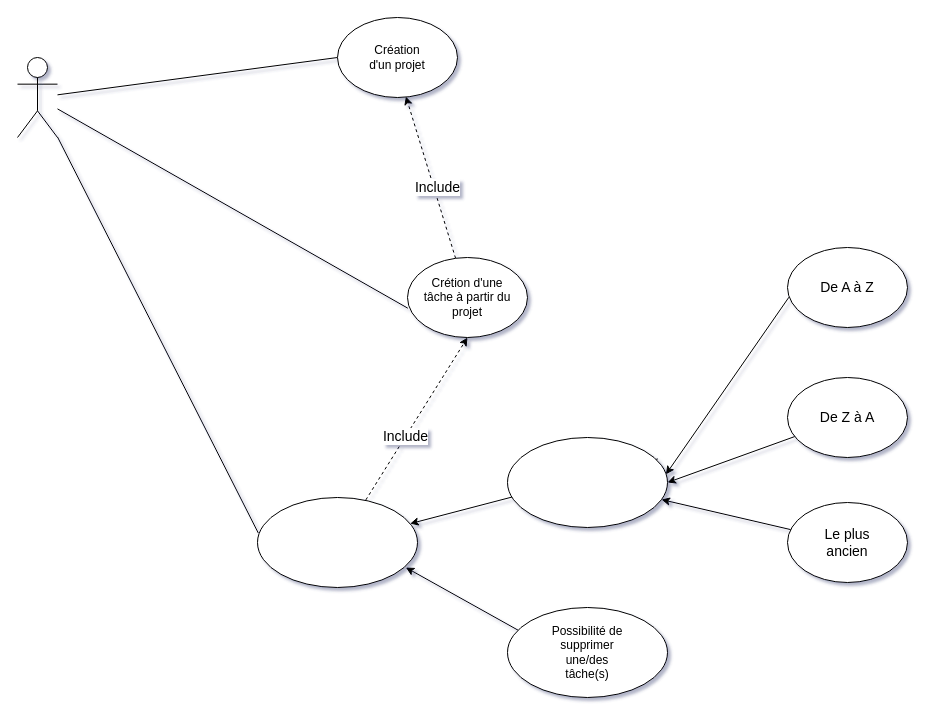
The diagram is 931 pixels wide and 721 high, and some of its shapes have lost their labels. The box of each missing label's shape, as (x1, y1, x2, y2) in pixels:
Aperçu d'une/des tâche(s) crée(s) sur l'écran principal: (256, 496, 418, 588)
Possibilité de filtrer les tâches: (506, 436, 668, 528)
User: (16, 56, 58, 138)
